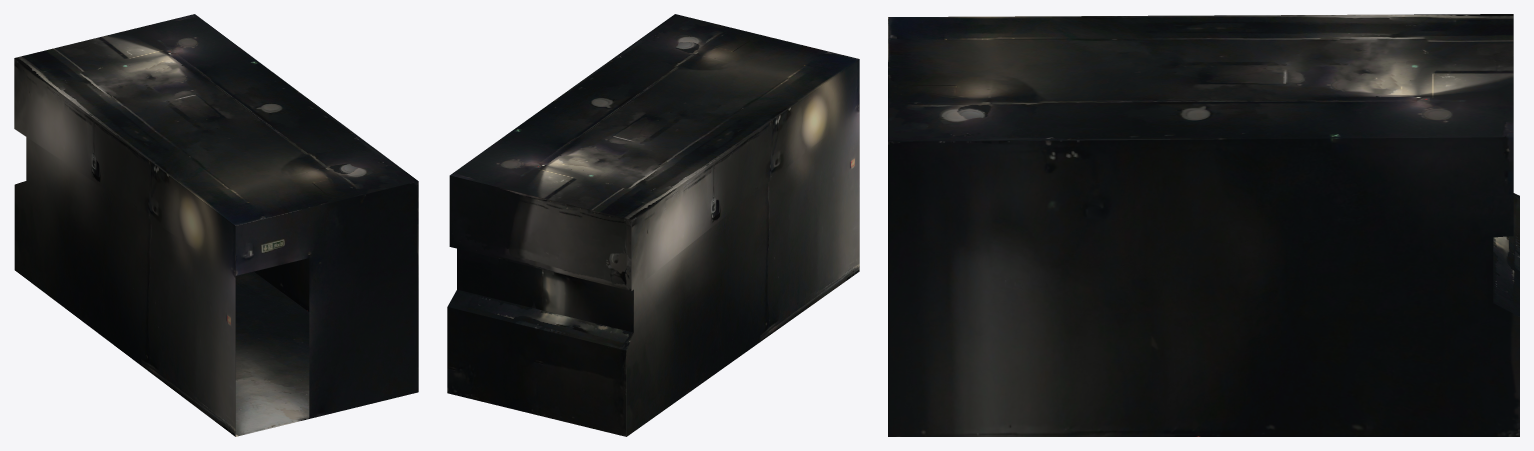
Rendered from main-left-LP.fbx.
The picture shows the model from 3 angles, left to right: view 1: azimuth 30°, elevation 25°; view 2: azimuth 150°, elevation 25°; view 3: azimuth 270°, elevation 25°; orthographic projection. The views are drawn at different scales.
Visible parts, largest first — view 1: main-left-LP; view 2: main-left-LP; view 3: main-left-LP.
Part boxes in pixels (x1=…): main-left-LP: x1=14, y1=14, x2=418, y2=436; main-left-LP: x1=447, y1=14, x2=859, y2=436; main-left-LP: x1=888, y1=14, x2=1519, y2=436.
Bounding box in the file's own units: 251 × 282 × 538.
1 material, 1 textured.
